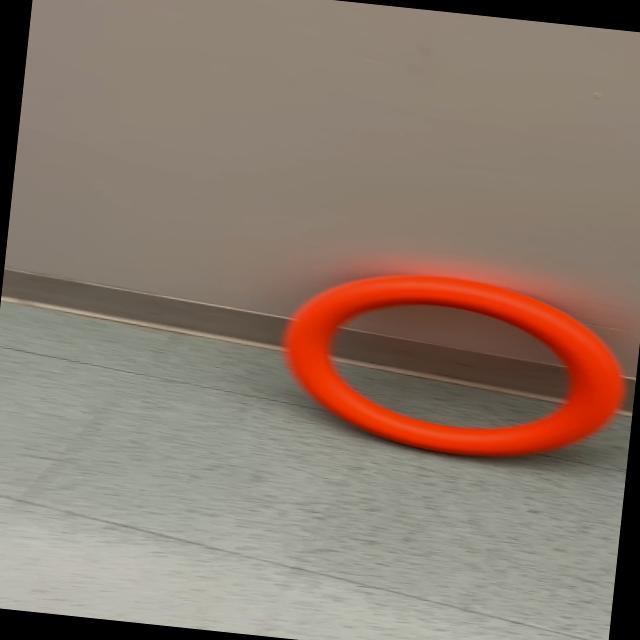note: (270, 258, 635, 472)
